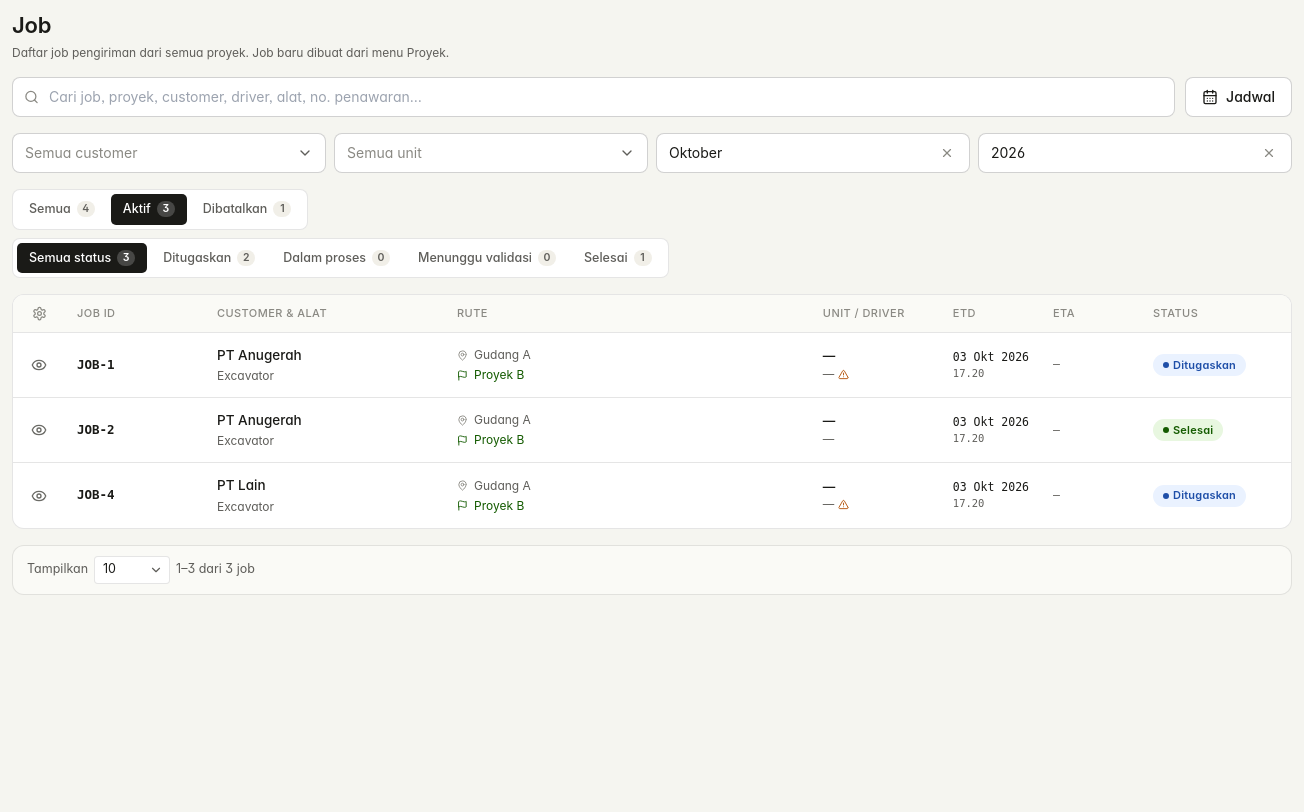
Scenario: daftar job › kelompok Dibatalkan: filter tahap disembunyikan
Click the button "Dibatalkan 1" at (247, 209), box [191,194,303,225]
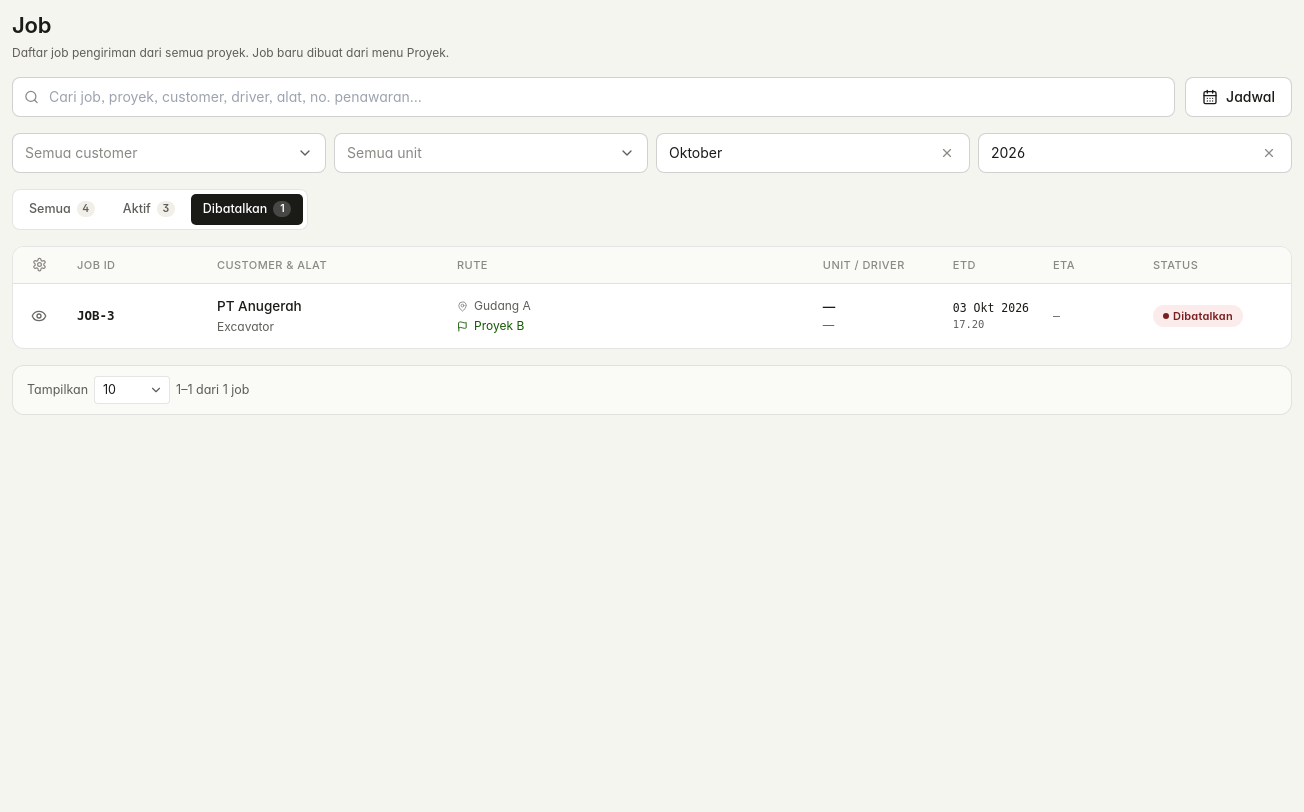
Expected: the text "JOB-3" is shown, [77,308,115,323]
Expected: the text "JOB-1" is gone
Expected: the button "Menunggu validasi" is gone
